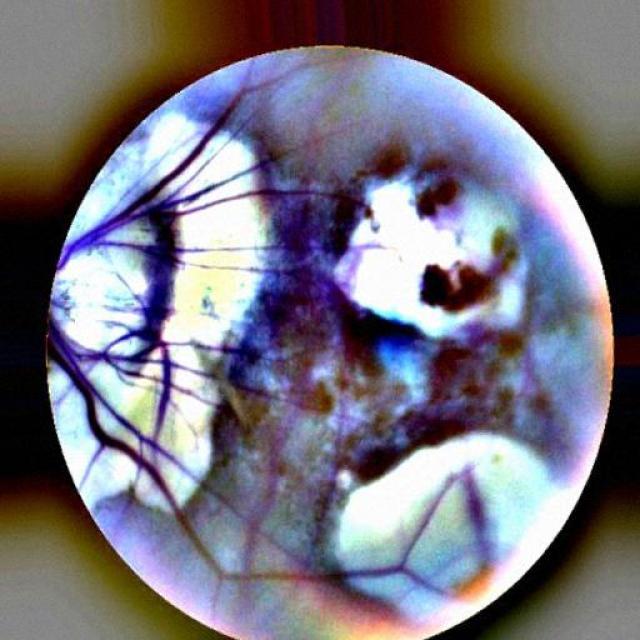Macula: (419, 227, 521, 317)
Nerves: (72, 56, 354, 245), (146, 462, 490, 599), (149, 123, 292, 220), (49, 342, 146, 481)
Optic Disk: (56, 254, 145, 349)
